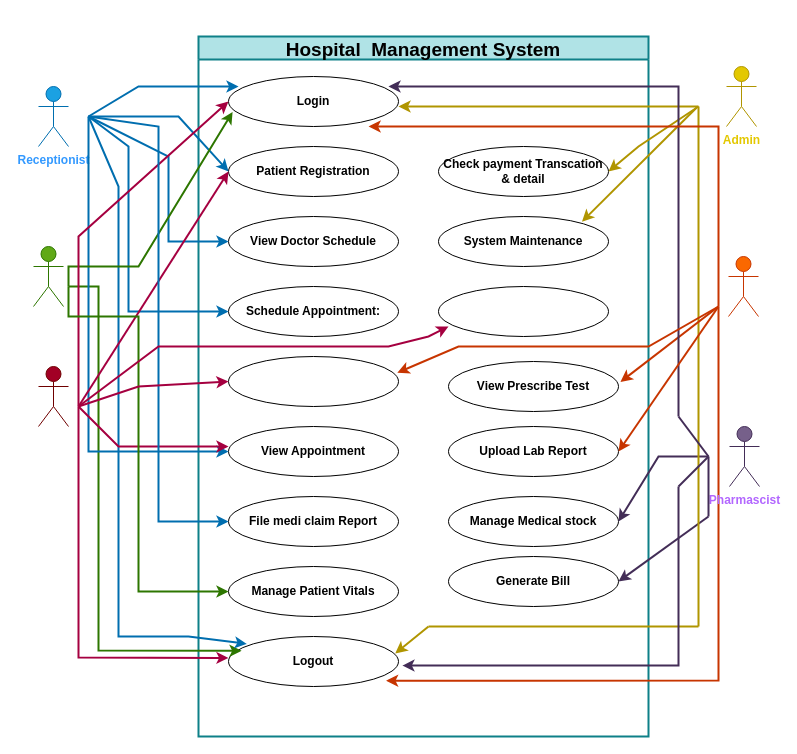
Some shapes in this 797 by 754 pixel diagram are drawn without their labels. Here are the shapes that lost their labels. From the top down, the centre of each, then its label:
At point 48,276: "Nurse".
At point 743,286: "Lab Tech".
At point 523,311: "view Patient Records".
At point 53,396: "Doctor".
At point 313,381: "Suggest / Do Lab Test".
